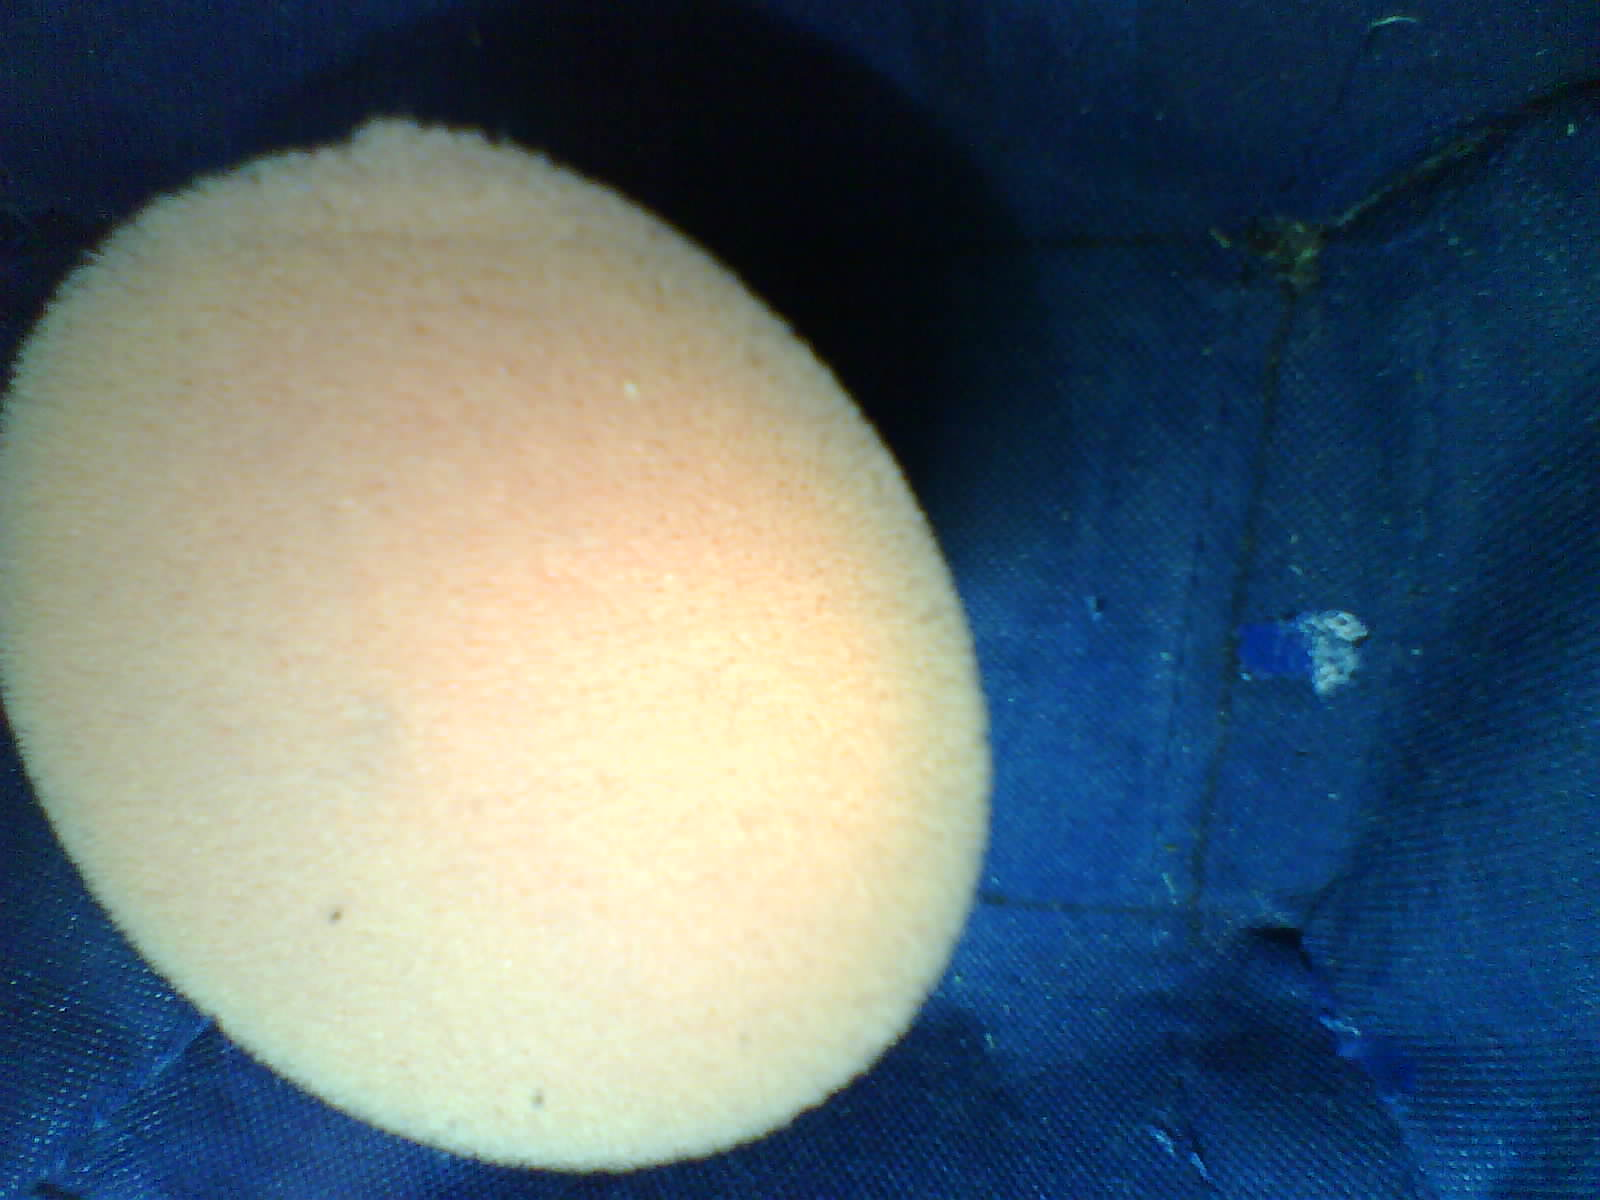cylinder-soft: (0, 108, 1036, 1180)
